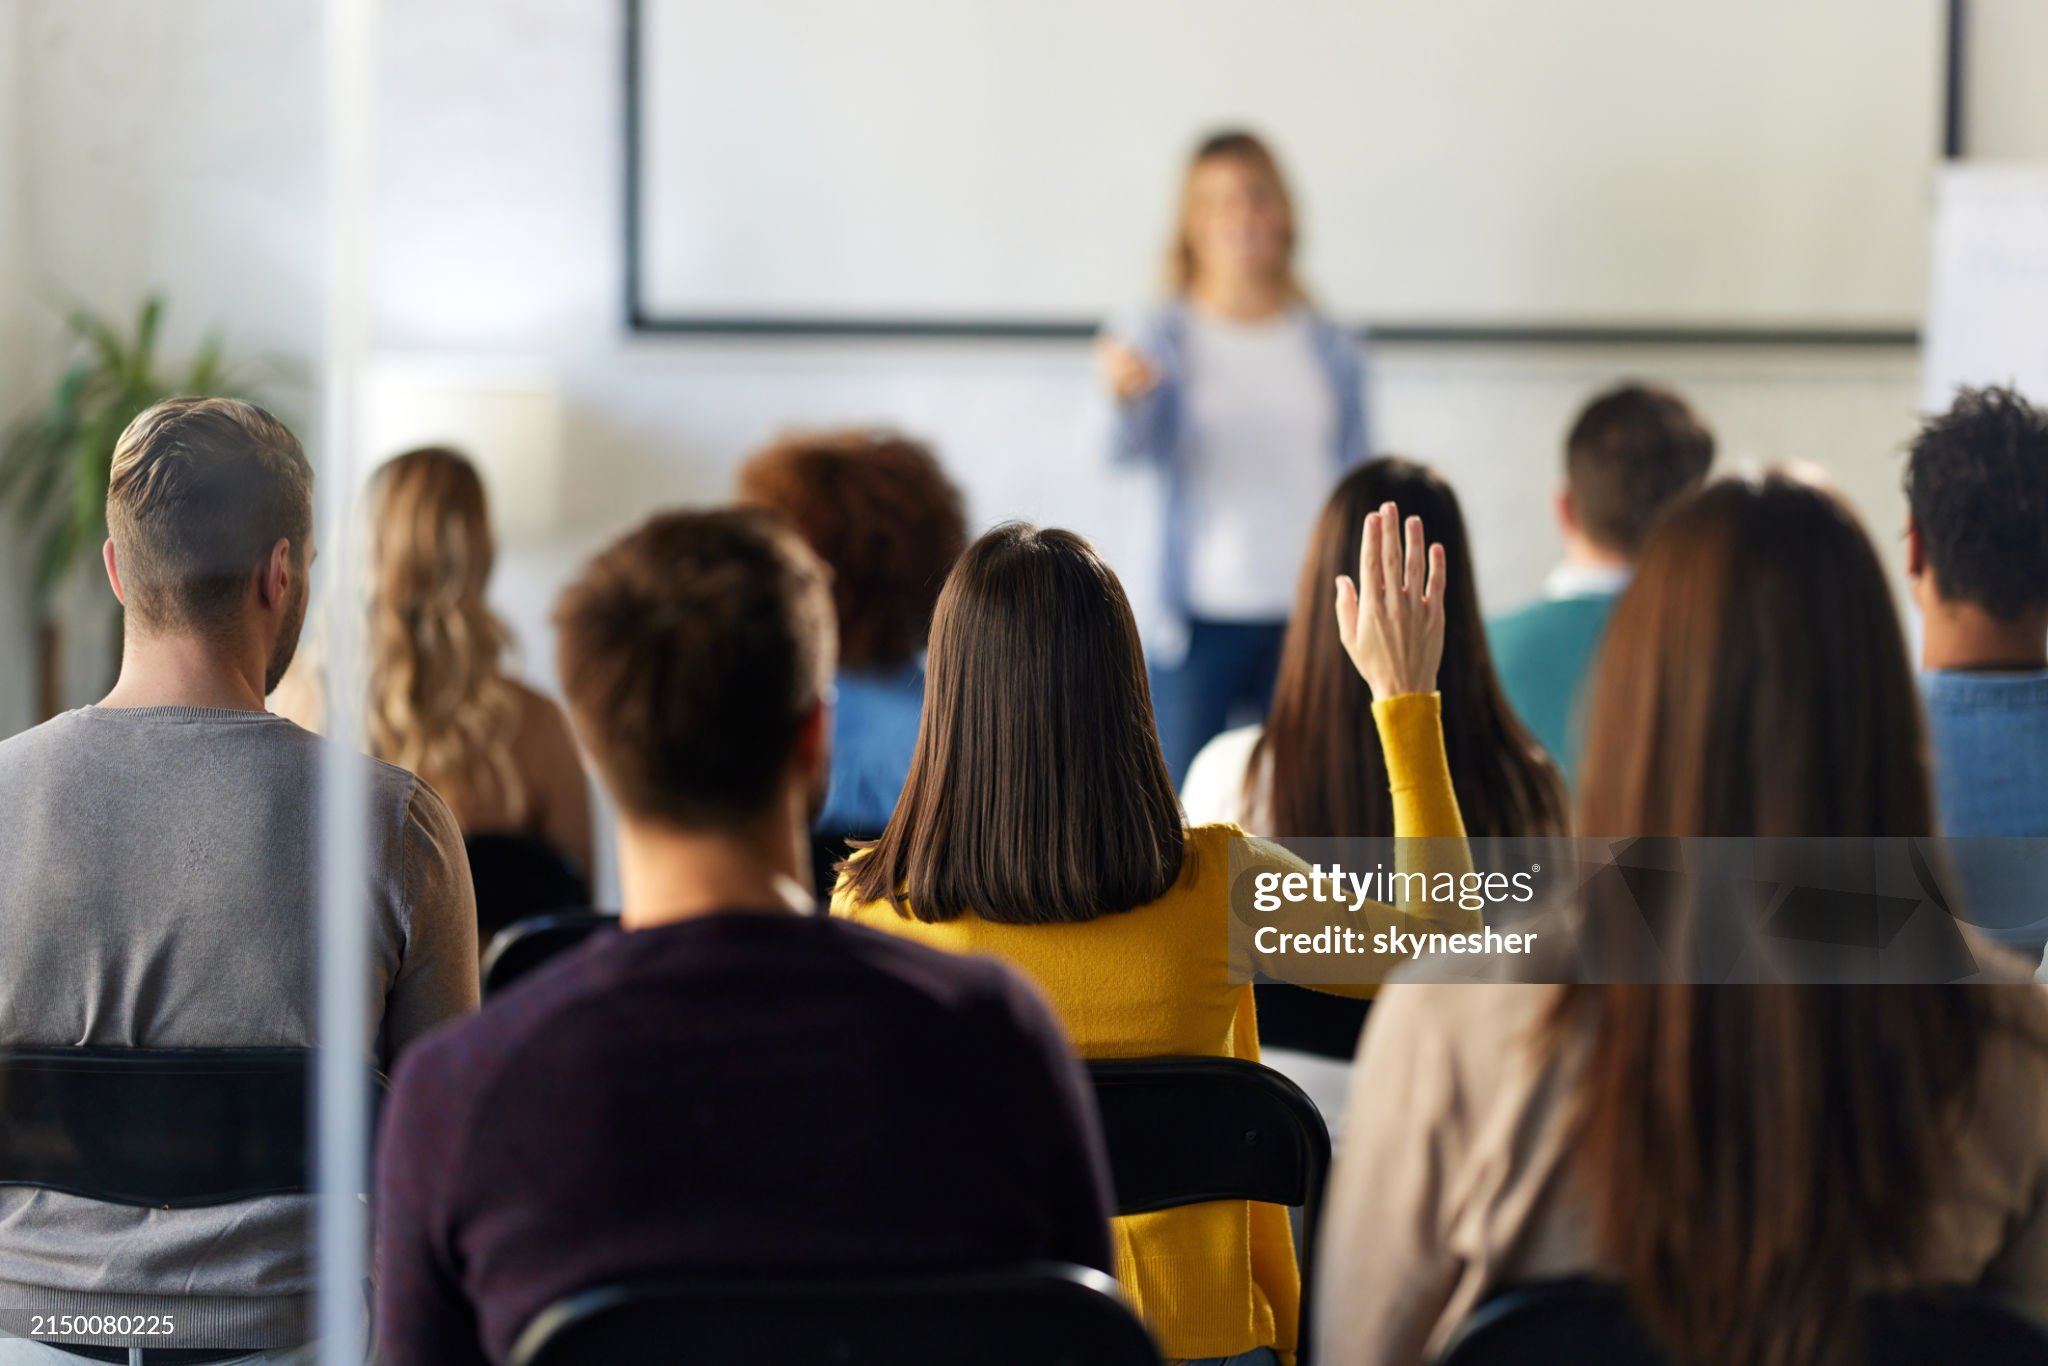entre-0-15-porcento: (0, 363, 2036, 1360)
